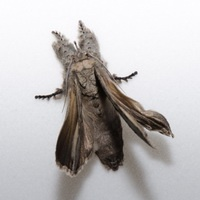insect: (52, 21, 173, 174)
